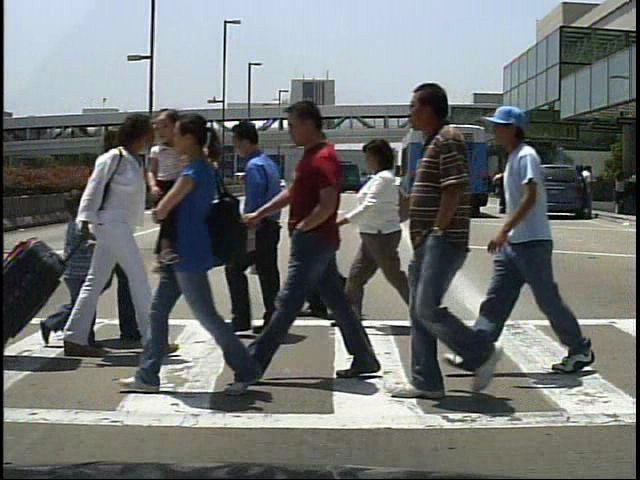person: (397, 84, 522, 420), (59, 113, 170, 363), (282, 94, 367, 385), (491, 102, 572, 378), (209, 123, 308, 346), (337, 136, 435, 334), (292, 130, 364, 322), (81, 115, 136, 361), (32, 194, 99, 355), (582, 167, 602, 218), (496, 165, 514, 218), (508, 166, 527, 215)
